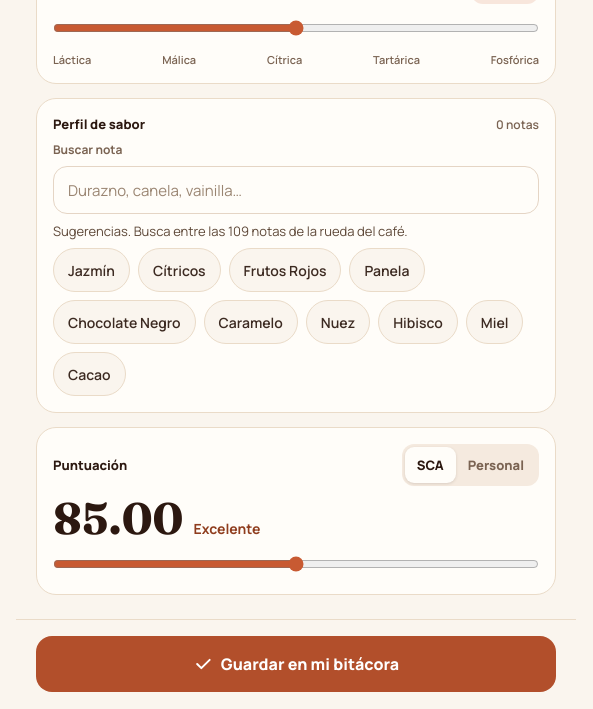
Paso3Sensorial › cambia entre escala SCA y personal
(page scrolled)
Expected: the text "85.00" is shown, left=53, top=496, right=184, bottom=540
Expected: the text "Excelente" is shown, left=194, top=519, right=260, bottom=538
Set the slider labelled "Puntuación" to "90.5". click: (382, 564)
box: left=53, top=550, right=539, bottom=578
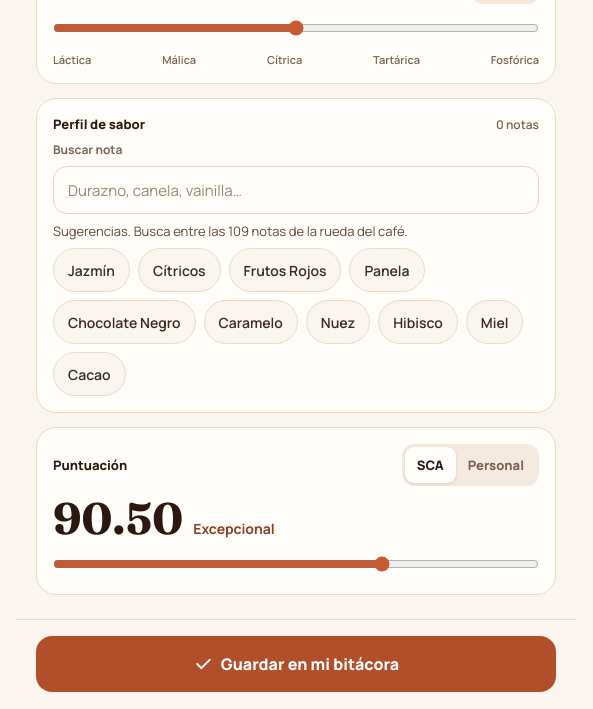
Expected: the text "Excepcional" is shown, left=193, top=519, right=275, bottom=538
Click the button "Personal". click: (496, 465)
box: left=456, top=447, right=536, bottom=483
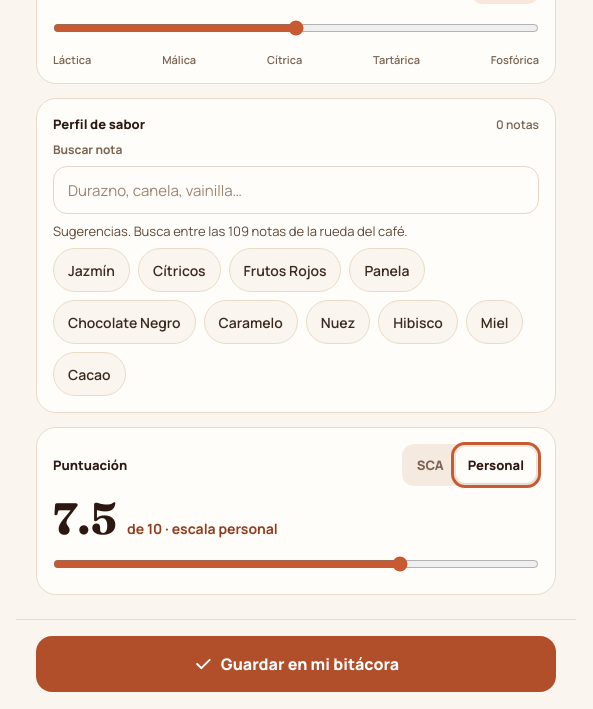
Expected: the text "7.5" is shown, left=53, top=496, right=117, bottom=540
Expected: the text "de 10 · escala personal" is shown, left=127, top=519, right=278, bottom=538
